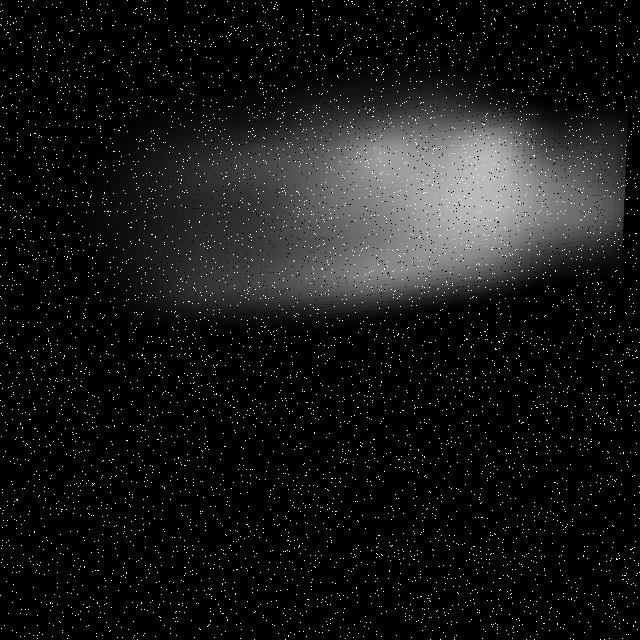person: (37, 30, 638, 365)
